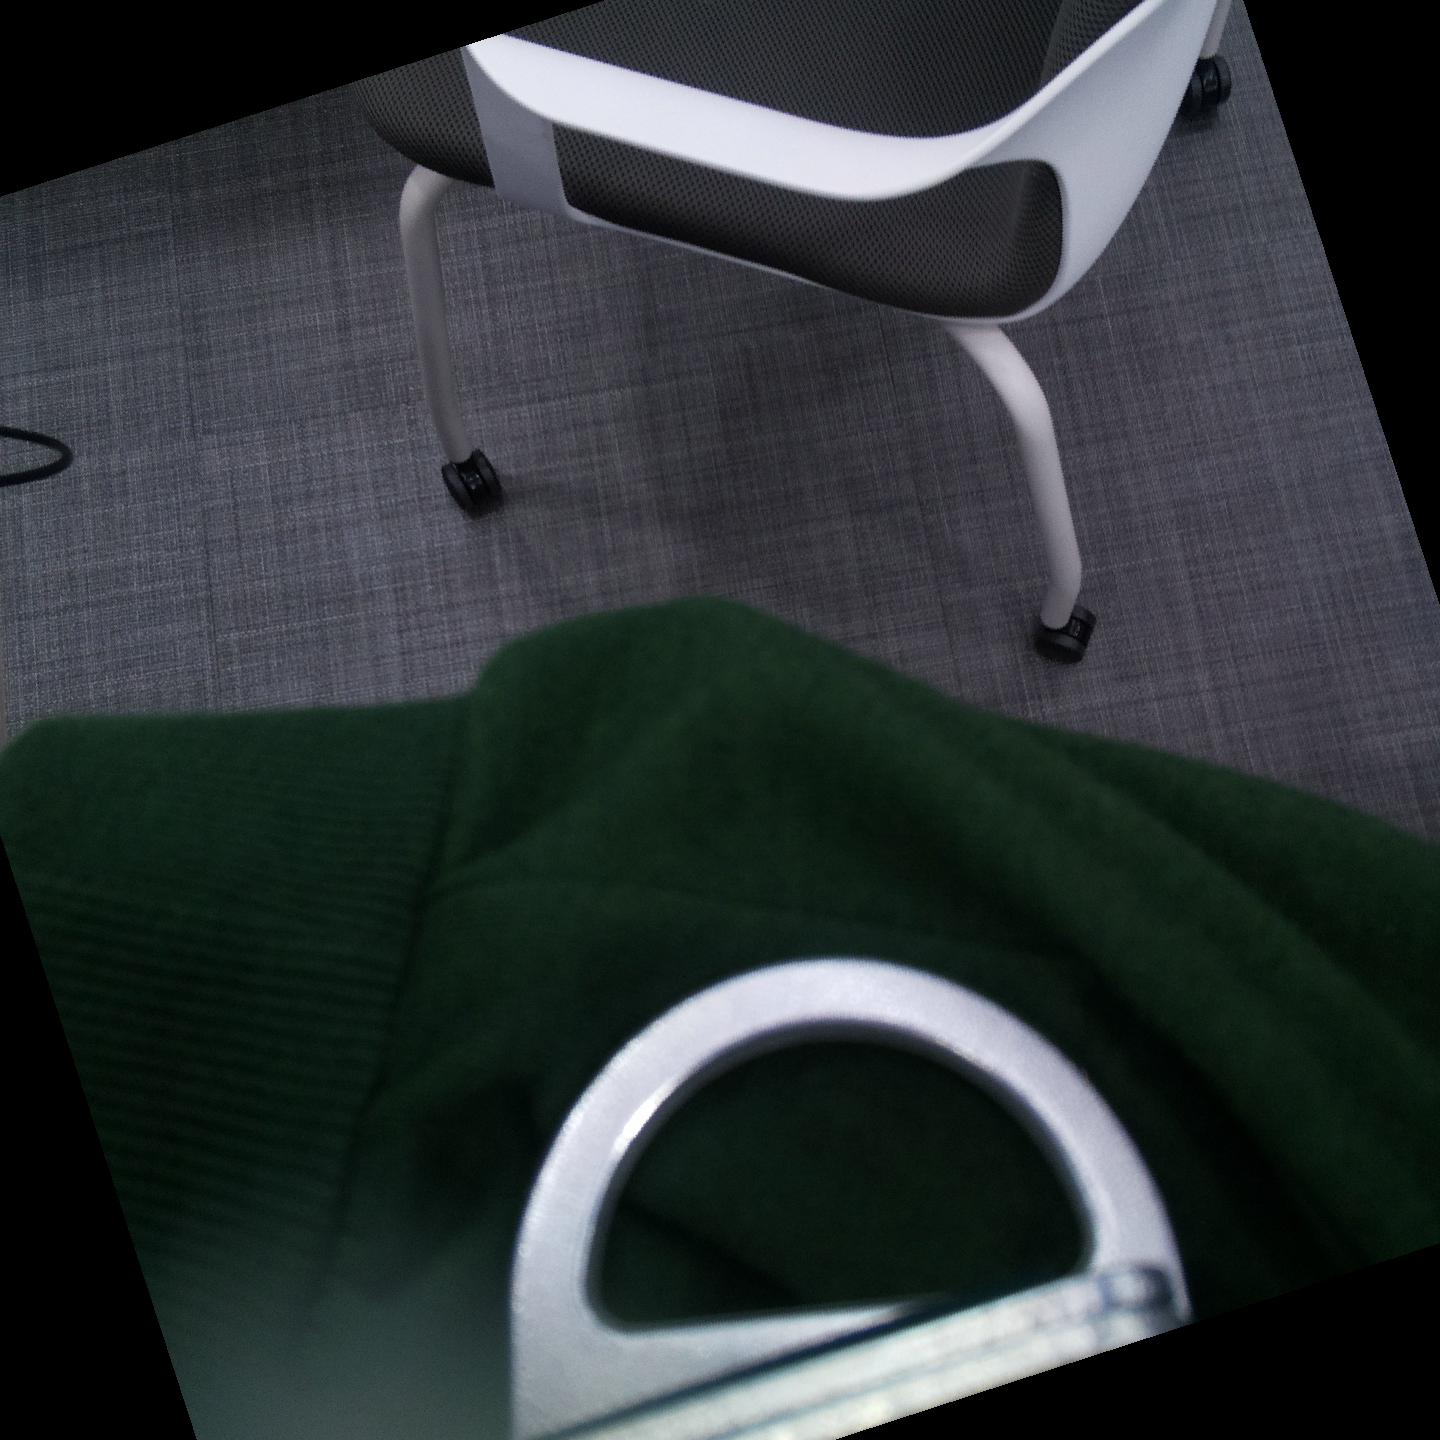UNSUCCESS: (498, 945, 1203, 1390)
